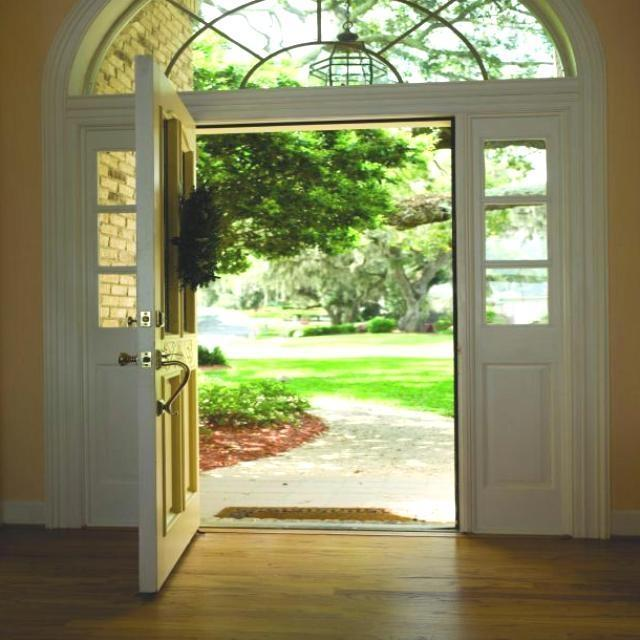door: (121, 50, 204, 610)
